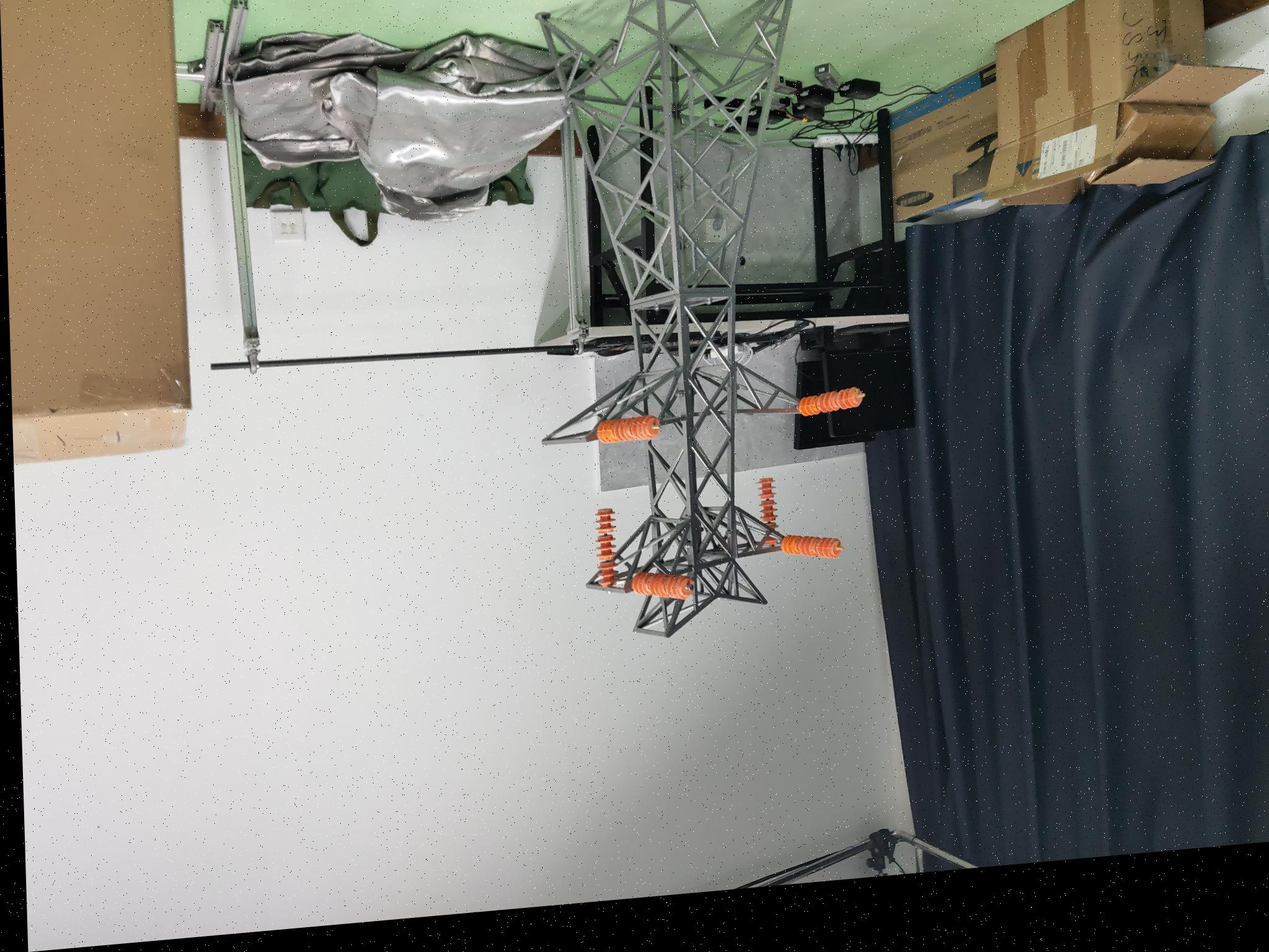tower: (524, 0, 820, 649)
